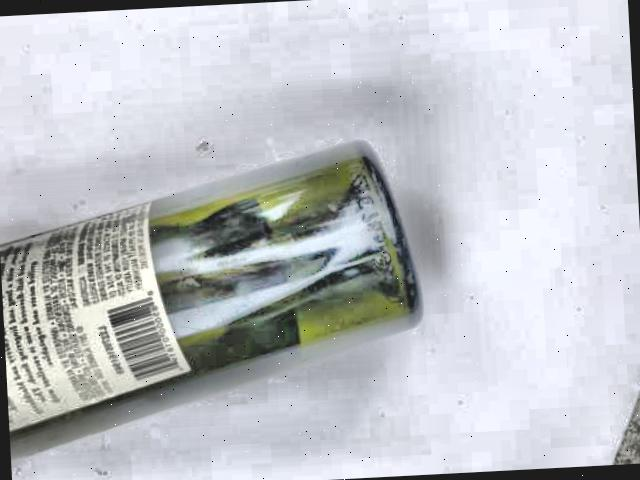Bottles: (0, 136, 422, 448)
